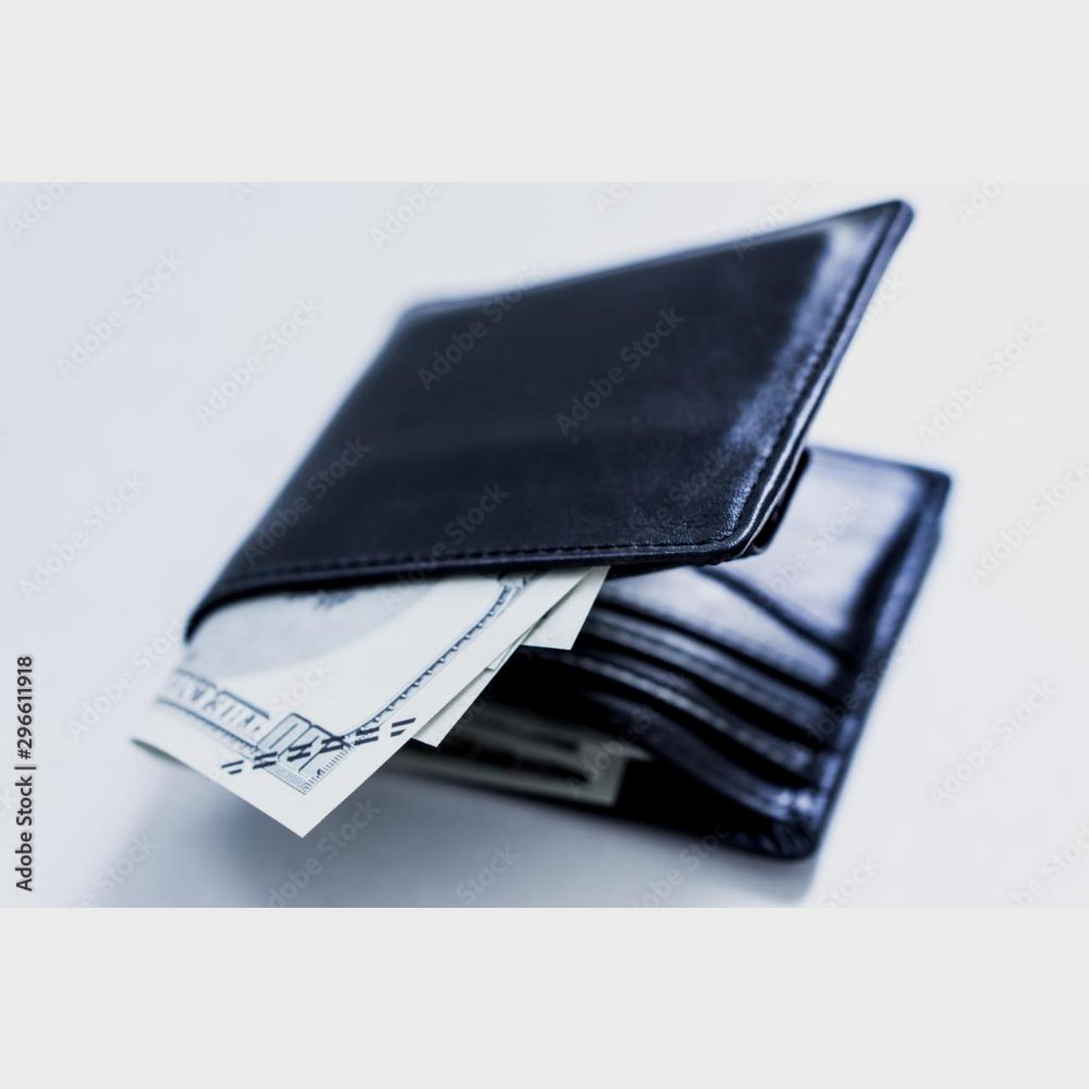wallet: (177, 214, 980, 892)
